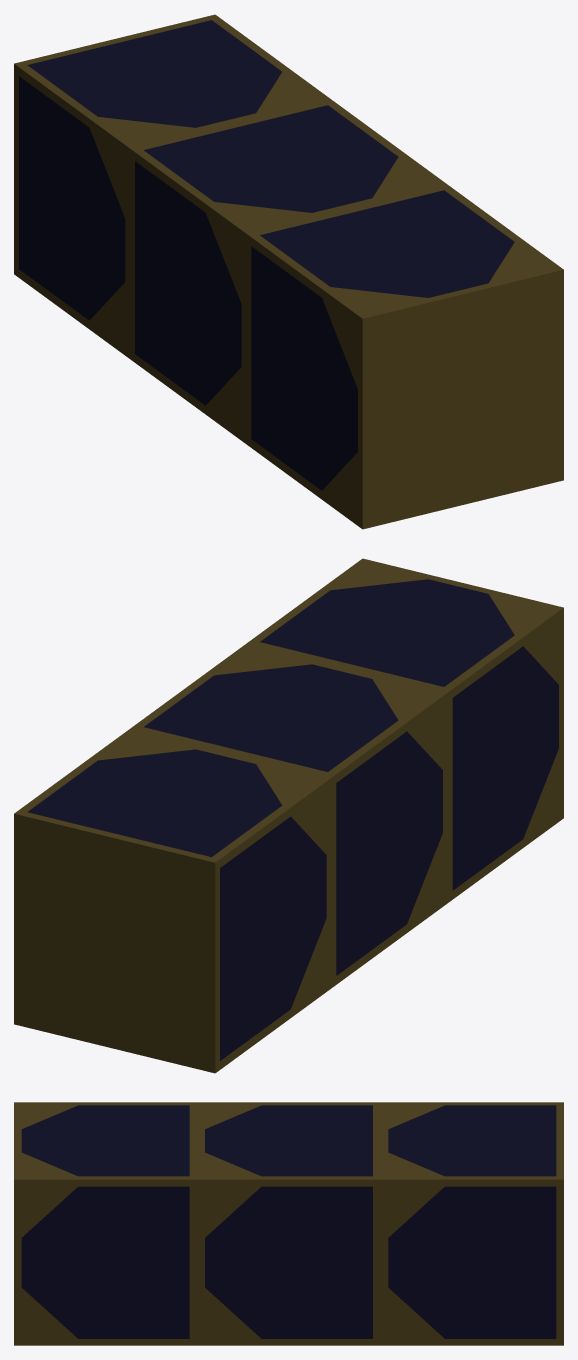
File: Cubesat_3U.obj
The picture shows the model from 3 angles, top to bottom: view 1: azimuth 30°, elevation 25°; view 2: azimuth 150°, elevation 25°; view 3: azimuth 270°, elevation 25°; orthographic projection. The views are drawn at different scales.
Parts seen in each view (by area): view 1: Cube1_CUBE_BLUE, Cube1_CUBE_ORANGE; view 2: Cube1_CUBE_BLUE, Cube1_CUBE_ORANGE; view 3: Cube1_CUBE_BLUE, Cube1_CUBE_ORANGE.
Part boxes in pixels (x1,y1,x2,y2): Cube1_CUBE_BLUE: (19, 20, 514, 490); Cube1_CUBE_ORANGE: (14, 14, 563, 529); Cube1_CUBE_BLUE: (27, 579, 558, 1060); Cube1_CUBE_ORANGE: (14, 558, 563, 1073); Cube1_CUBE_BLUE: (21, 1105, 556, 1338); Cube1_CUBE_ORANGE: (14, 1102, 563, 1345).
Bounding box in the file's own units: 0.1 × 0.1 × 0.3.
